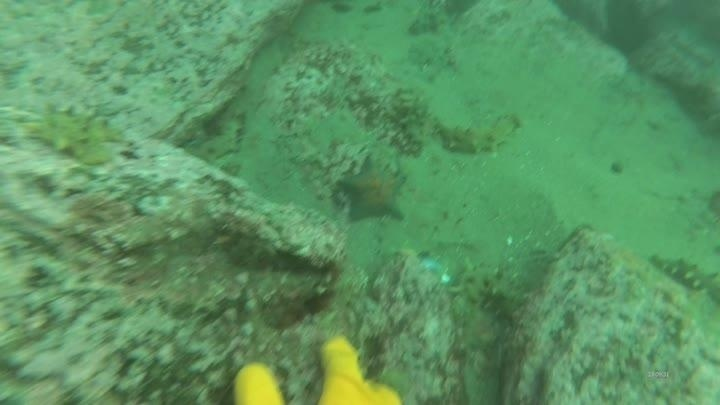echinus: (599, 1, 654, 57)
holothurian: (448, 260, 529, 352), (19, 102, 127, 169), (430, 109, 524, 158), (647, 248, 720, 307), (186, 107, 247, 163), (389, 85, 432, 159)
starfish: (336, 155, 411, 226)
